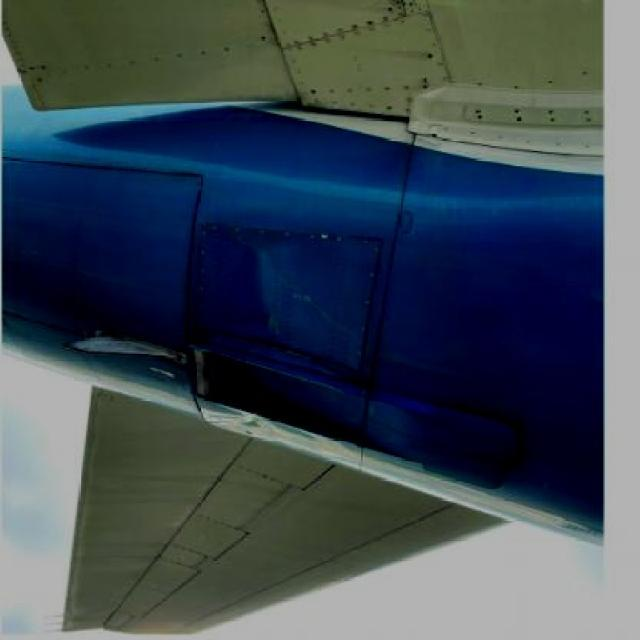dent: (236, 244, 295, 333)
